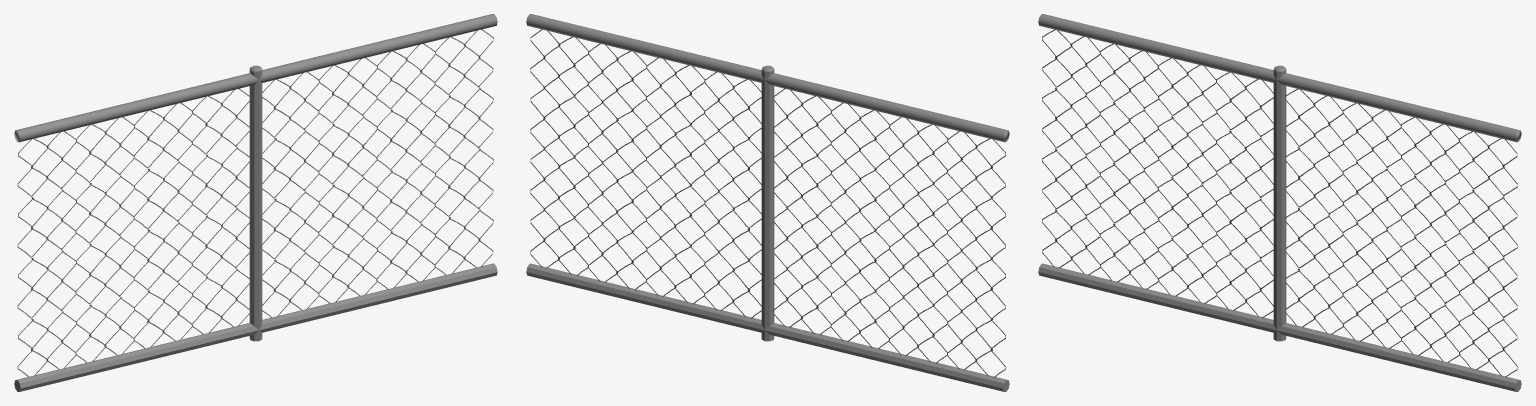
Rendered from fbx_stainfence.fbx.
The picture shows the model from 3 angles, left to right: view 1: azimuth 30°, elevation 25°; view 2: azimuth 150°, elevation 25°; view 3: azimuth 330°, elevation 25°; orthographic projection.
Visible parts, largest first — view 1: obj_stainfence; view 2: obj_stainfence; view 3: obj_stainfence.
Part boxes in pixels (left/top/right/bottom): obj_stainfence: left=14, top=14, right=497, bottom=391; obj_stainfence: left=526, top=14, right=1009, bottom=391; obj_stainfence: left=1038, top=14, right=1521, bottom=391.
Size of the model in its own units: 6.78 by 3.69 by 0.1612.
Materials: 1 (1 with a texture image).
